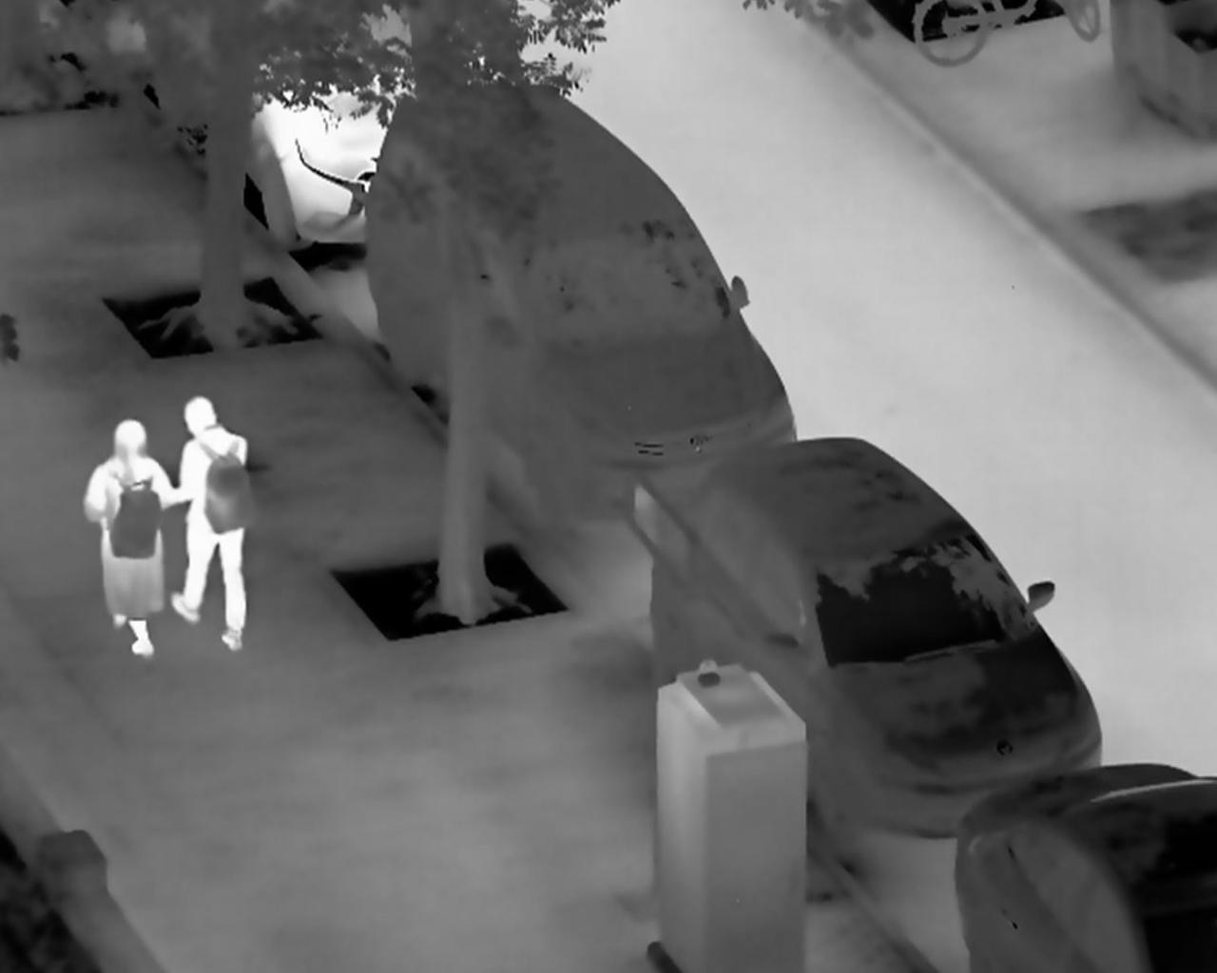person: (82, 417, 178, 656), (171, 394, 251, 652)
